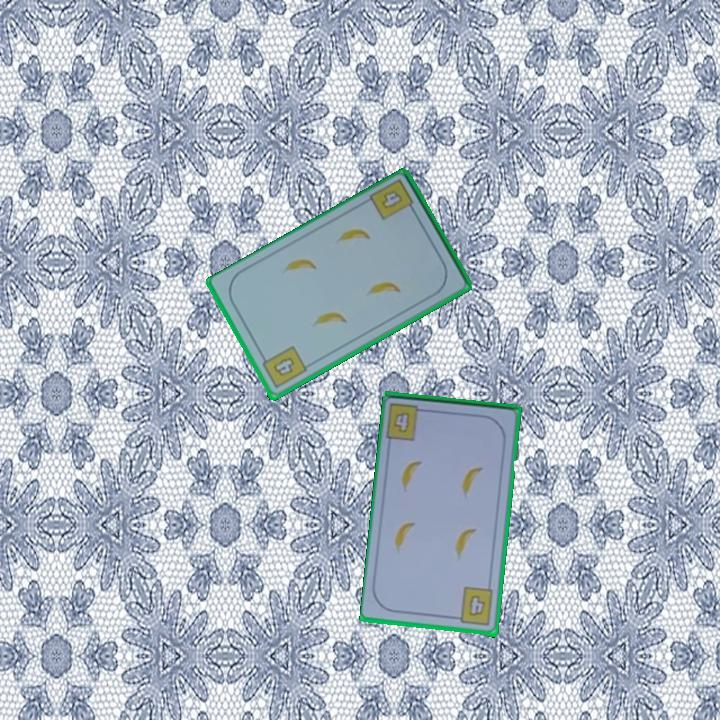4b: (257, 343, 310, 392), (366, 176, 419, 223), (450, 584, 496, 629), (390, 409, 413, 436)
